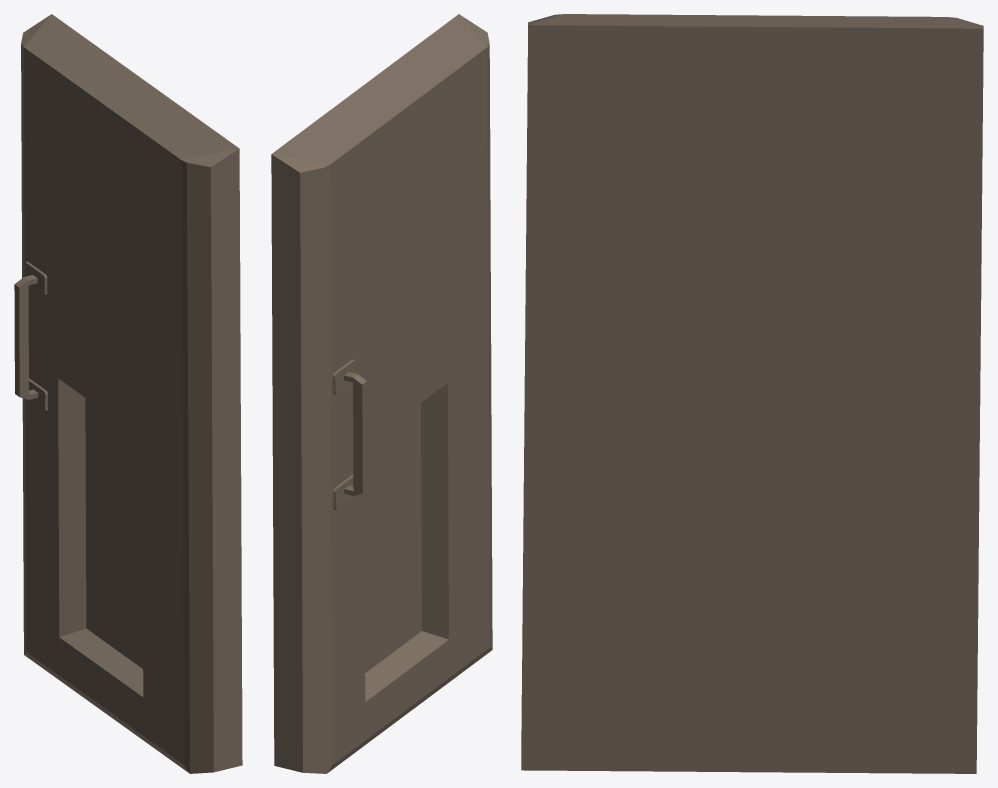
3 renders of one model, left to right at view 1: azimuth 30°, elevation 25°; view 2: azimuth 150°, elevation 25°; view 3: azimuth 270°, elevation 25°, orthographic. The views are drawn at different scales.
Parts seen in each view (by area): view 1: SM_H5_D2; view 2: SM_H5_D2; view 3: SM_H5_D2.
Boxes of the visible parts, box(x1,y1,x2,y2) form: SM_H5_D2: box(14, 14, 242, 773); SM_H5_D2: box(271, 14, 492, 773); SM_H5_D2: box(521, 14, 983, 773).
Size of the model in its own units: 23.67 by 122 by 220.
1 material, 1 textured.
